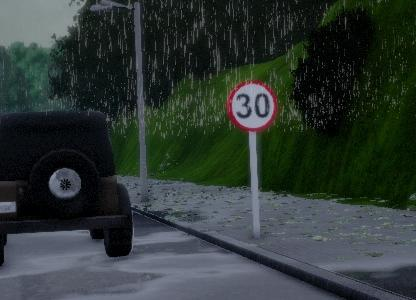Speed_30: (223, 74, 279, 135)
